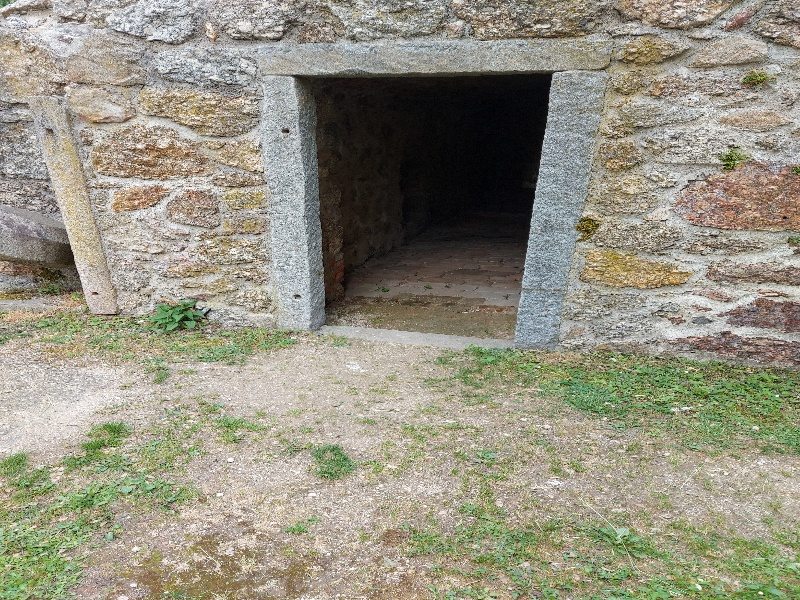door2: (248, 27, 613, 362)
